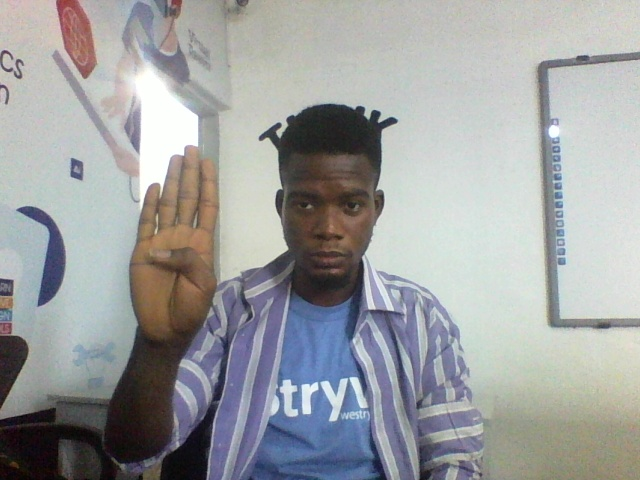hello: (127, 141, 225, 369)
